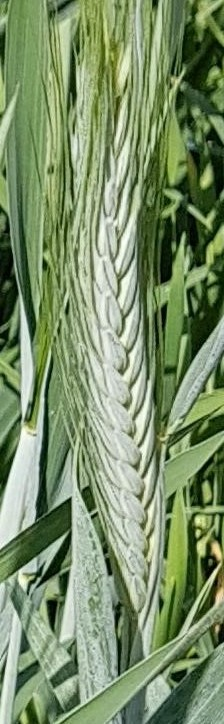Healthy Wheat: (65, 131, 181, 592)
